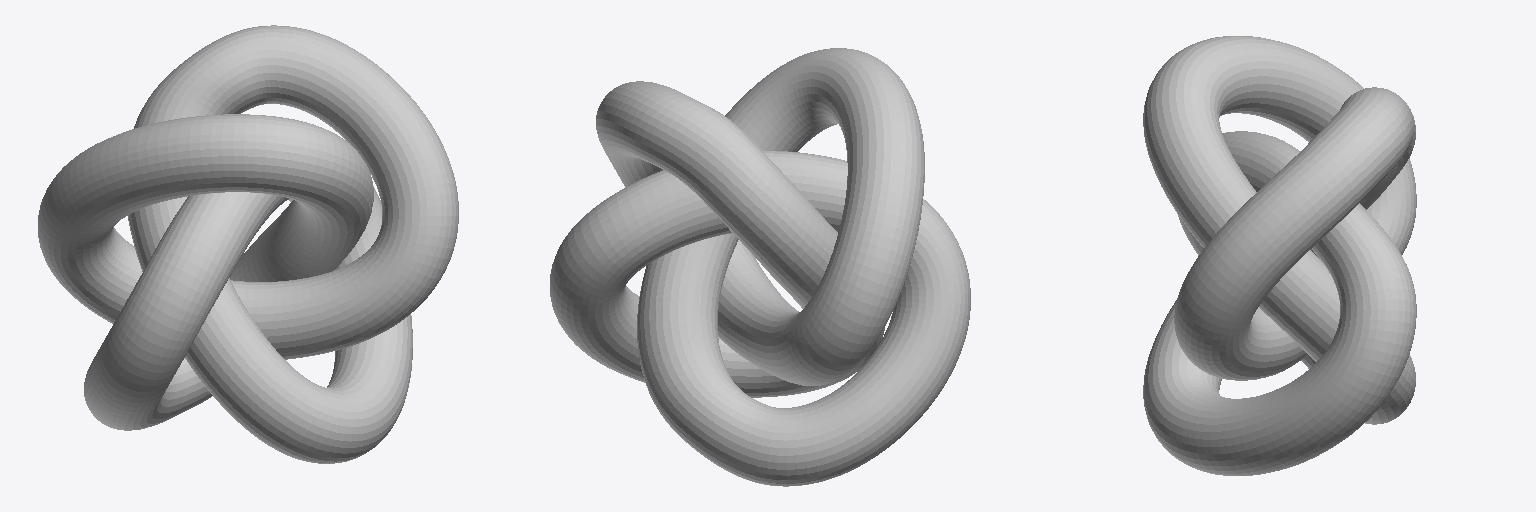
The model's file is knot.obj.
The picture shows the model from 3 angles: view 1: azimuth 30°, elevation 25°; view 2: azimuth 150°, elevation 25°; view 3: azimuth 270°, elevation 25°; orthographic projection.
Parts seen in each view (by area): view 1: Object_2; view 2: Object_2; view 3: Object_2.
Boxes of the visible parts, x1=… form: Object_2: x1=38, y1=25, x2=458, y2=463; Object_2: x1=550, y1=48, x2=970, y2=486; Object_2: x1=1143, y1=36, x2=1416, y2=475.
Bounding box in the file's own units: 28.88 × 28.9 × 19.83.